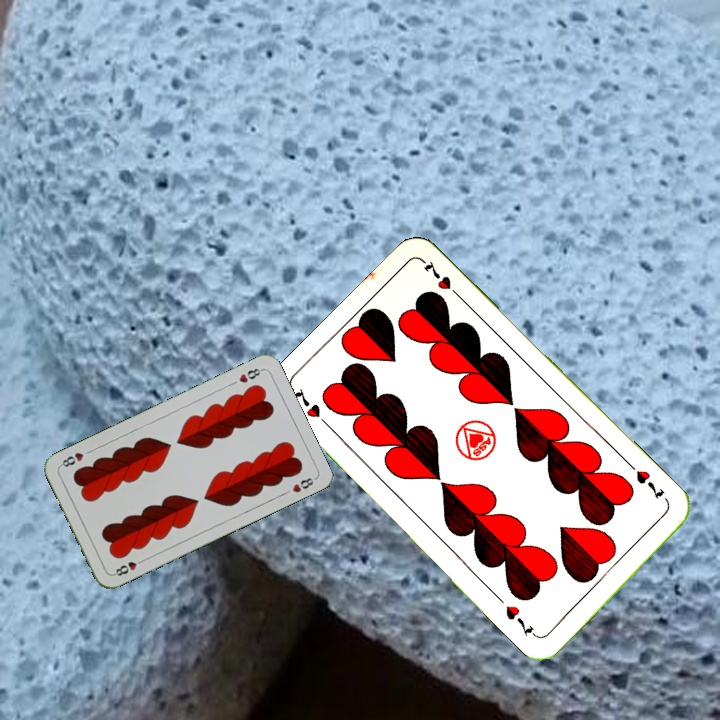H7: (289, 384, 335, 432), (631, 466, 667, 503)
H8: (109, 555, 147, 579), (235, 364, 265, 386)
